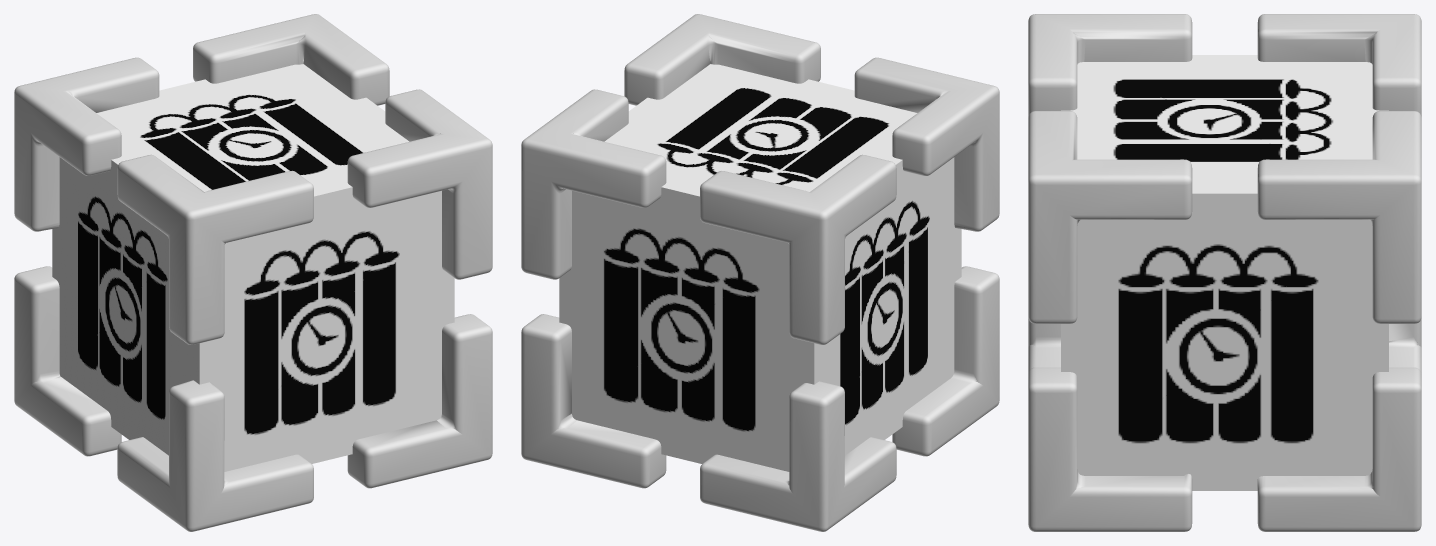
The model's file is TimeBombBox.FBX.
The picture shows the model from 3 angles, left to right: view 1: azimuth 30°, elevation 25°; view 2: azimuth 150°, elevation 25°; view 3: azimuth 270°, elevation 25°; orthographic projection. The views are drawn at different scales.
Parts seen in each view (by area): view 1: MainBox, Corner005, Corner008, Corner001, Corner011, Corner007, Corner006, Corner010; view 2: MainBox, Corner011, Corner006, Corner010, Corner005, Corner002, Corner008, Corner001; view 3: MainBox, Corner010, Corner001, Corner007, Corner002, Corner011, Corner005, Corner006, Corner008.
Boxes of the visible parts, box(x1,y1,x2,y2) form: MainBox: box(52, 64, 454, 471); Corner005: box(117, 154, 313, 344); Corner008: box(117, 380, 313, 531); Corner001: box(347, 89, 492, 279); Corner011: box(14, 57, 159, 231); Corner007: box(347, 314, 492, 488); Corner006: box(14, 266, 121, 456); Corner010: box(193, 14, 389, 105); MainBox: box(559, 64, 961, 471); Corner011: box(700, 154, 896, 344); Corner006: box(700, 381, 896, 531); Corner010: box(521, 89, 666, 279); Corner005: box(854, 57, 999, 231); Corner002: box(521, 314, 666, 488); Corner008: box(892, 266, 999, 456); Corner001: box(624, 14, 820, 105); MainBox: box(1061, 55, 1388, 490); Corner010: box(1257, 111, 1421, 323); Corner001: box(1028, 111, 1192, 323); Corner007: box(1028, 367, 1192, 531); Corner002: box(1257, 367, 1421, 531); Corner011: box(1257, 14, 1421, 117); Corner005: box(1028, 14, 1192, 117); Corner006: box(1389, 317, 1421, 373); Corner008: box(1028, 317, 1060, 373).
Bounding box in the file's own units: 120 × 120 × 120.
Materials: 1 (1 with a texture image).
